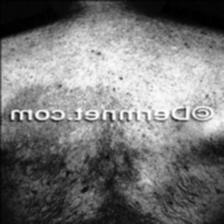Unclassified: (0, 122, 218, 210), (0, 40, 224, 104)
